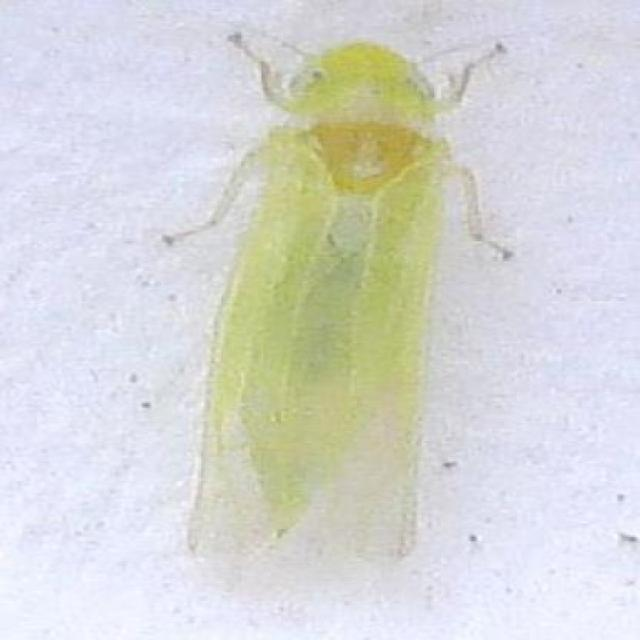green-leafhopper: (164, 31, 518, 557)
